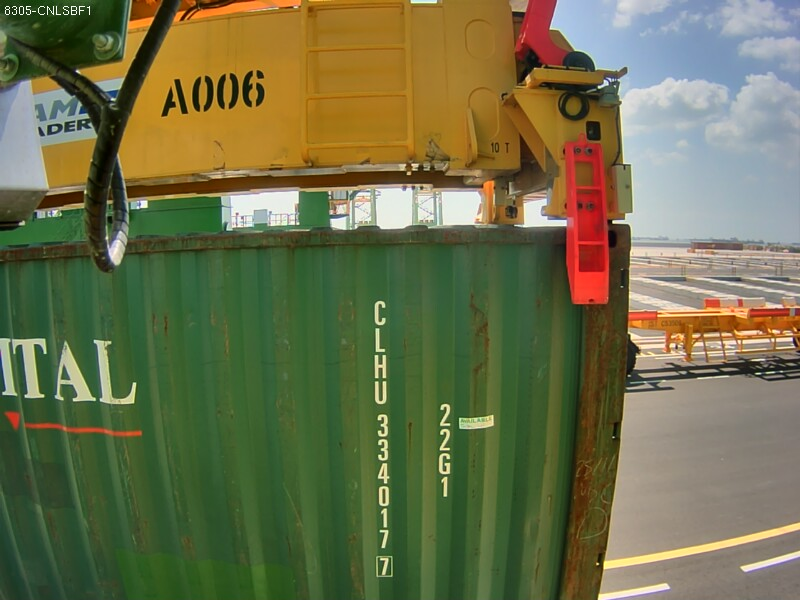container_no_door: (142, 224, 559, 600)
